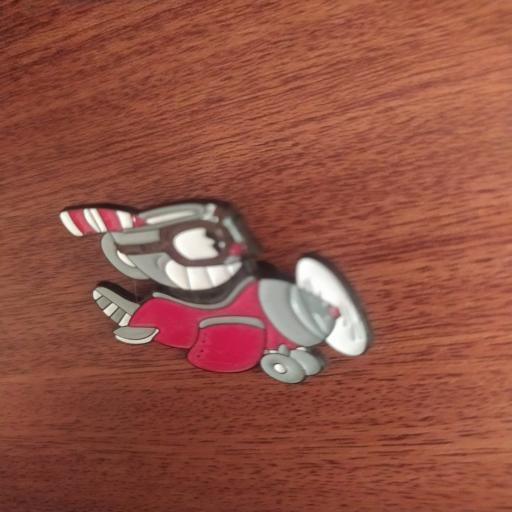Pin: (35, 186, 382, 391)
